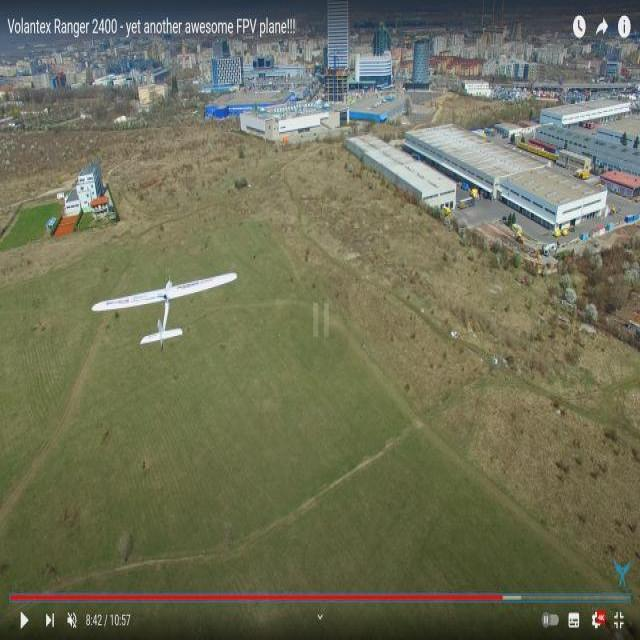iha: (92, 300, 239, 321)
